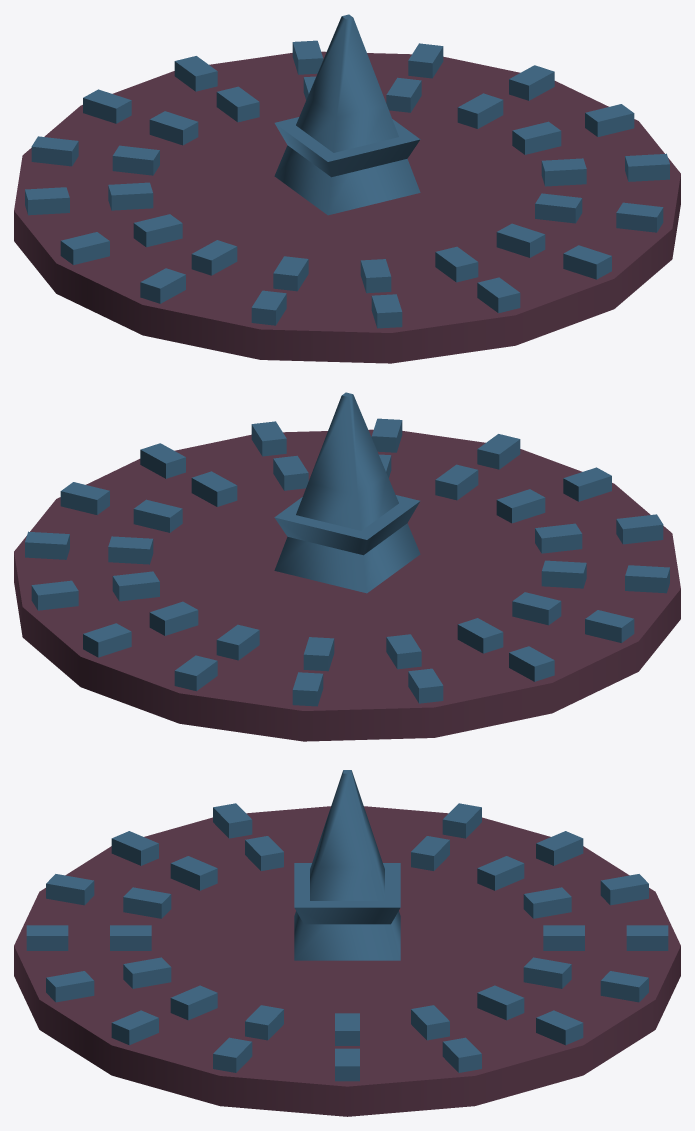
Rendered from imp_ju_ling_zhen.glb.
The picture shows the model from 3 angles, top to bottom: view 1: azimuth 30°, elevation 25°; view 2: azimuth 150°, elevation 25°; view 3: azimuth 270°, elevation 25°; orthographic projection.
Visible parts, largest first — view 1: _MeshInstance3D_210, _MeshInstance3D_243, _MeshInstance3D_244, _MeshInstance3D_211, _MeshInstance3D_219, _MeshInstance3D_227, _MeshInstance3D_222, _MeshInstance3D_235, _MeshInstance3D_214, _MeshInstance3D_230, _MeshInstance3D_238, _MeshInstance3D_229 (+22 smaller); view 2: _MeshInstance3D_210, _MeshInstance3D_243, _MeshInstance3D_244, _MeshInstance3D_211, _MeshInstance3D_219, _MeshInstance3D_227, _MeshInstance3D_216, _MeshInstance3D_235, _MeshInstance3D_224, _MeshInstance3D_232, _MeshInstance3D_240, _MeshInstance3D_233 (+22 smaller); view 3: _MeshInstance3D_210, _MeshInstance3D_243, _MeshInstance3D_244, _MeshInstance3D_230, _MeshInstance3D_240, _MeshInstance3D_216, _MeshInstance3D_222, _MeshInstance3D_214, _MeshInstance3D_224, _MeshInstance3D_232, _MeshInstance3D_238, _MeshInstance3D_217 (+21 smaller).
Boxes of the visible parts, bbox=[...] form: _MeshInstance3D_210: bbox=[14, 51, 680, 363]; _MeshInstance3D_243: bbox=[274, 14, 420, 215]; _MeshInstance3D_244: bbox=[274, 117, 420, 177]; _MeshInstance3D_211: bbox=[512, 121, 561, 154]; _MeshInstance3D_219: bbox=[133, 214, 182, 247]; _MeshInstance3D_227: bbox=[585, 104, 634, 136]; _MeshInstance3D_222: bbox=[149, 111, 198, 145]; _MeshInstance3D_235: bbox=[60, 232, 109, 264]; _MeshInstance3D_214: bbox=[496, 223, 545, 257]; _MeshInstance3D_230: bbox=[563, 245, 611, 279]; _MeshInstance3D_238: bbox=[83, 89, 131, 123]; _MeshInstance3D_229: bbox=[616, 202, 663, 232]; _MeshInstance3D_210: bbox=[14, 429, 680, 741]; _MeshInstance3D_243: bbox=[274, 392, 420, 593]; _MeshInstance3D_244: bbox=[274, 495, 420, 555]; _MeshInstance3D_211: bbox=[133, 499, 182, 532]; _MeshInstance3D_219: bbox=[512, 592, 561, 625]; _MeshInstance3D_227: bbox=[60, 482, 109, 514]; _MeshInstance3D_216: bbox=[496, 489, 545, 523]; _MeshInstance3D_235: bbox=[585, 610, 634, 642]; _MeshInstance3D_224: bbox=[149, 601, 198, 635]; _MeshInstance3D_232: bbox=[563, 467, 611, 501]; _MeshInstance3D_240: bbox=[83, 623, 131, 657]; _MeshInstance3D_233: bbox=[616, 514, 663, 544]; _MeshInstance3D_210: bbox=[14, 806, 680, 1116]; _MeshInstance3D_243: bbox=[294, 770, 400, 960]; _MeshInstance3D_244: bbox=[294, 863, 400, 924]; _MeshInstance3D_230: bbox=[46, 971, 94, 1002]; _MeshInstance3D_240: bbox=[600, 971, 648, 1002]; _MeshInstance3D_216: bbox=[123, 887, 171, 918]; _MeshInstance3D_222: bbox=[523, 887, 571, 918]; _MeshInstance3D_214: bbox=[123, 957, 171, 988]; _MeshInstance3D_224: bbox=[523, 957, 571, 988]; _MeshInstance3D_232: bbox=[46, 874, 94, 905]; _MeshInstance3D_238: bbox=[600, 874, 648, 905]; _MeshInstance3D_217: bbox=[170, 856, 217, 890].
Bounding box in the file's own units: 0.8 × 0.29 × 0.8.
